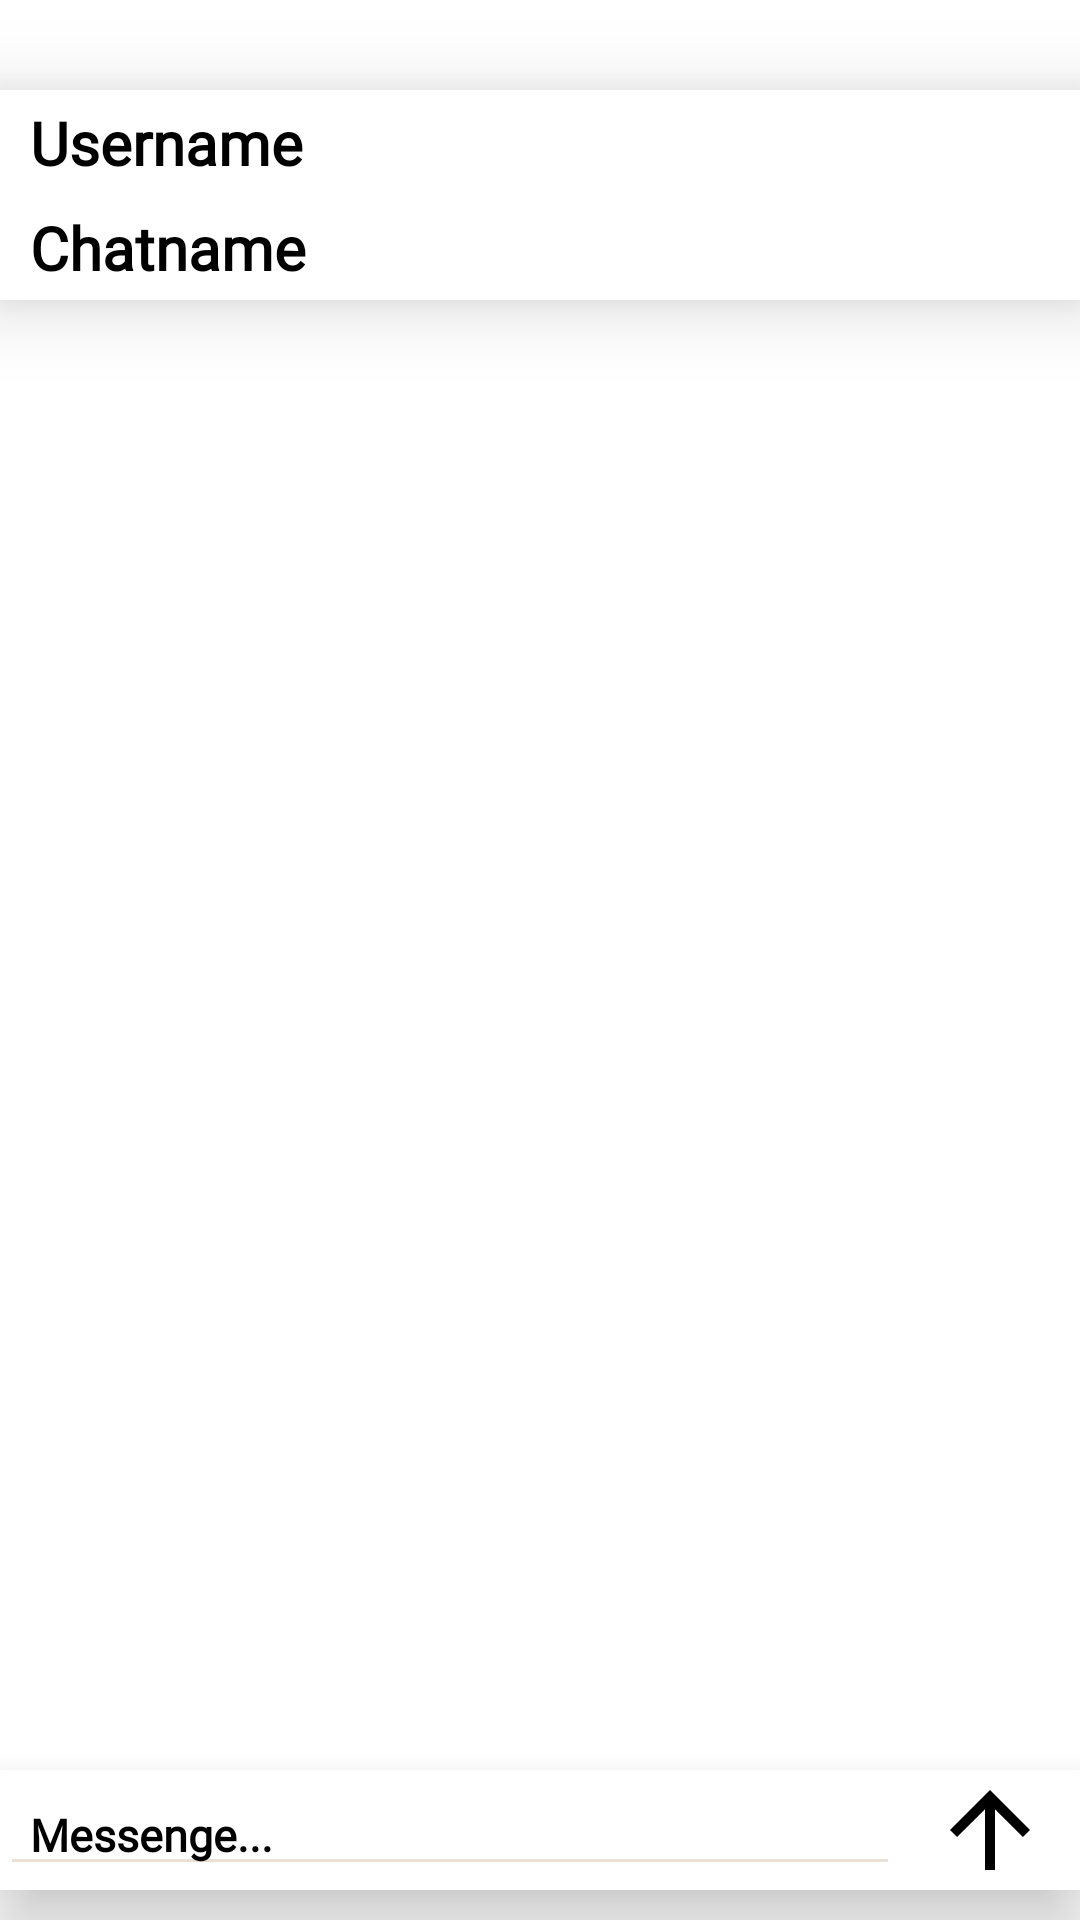

Icon bounding boxes for this 1080w x 1920h phone screenshot, format (x1, y1, x2, y2):
arrow upward: (950, 1790, 1030, 1870)
